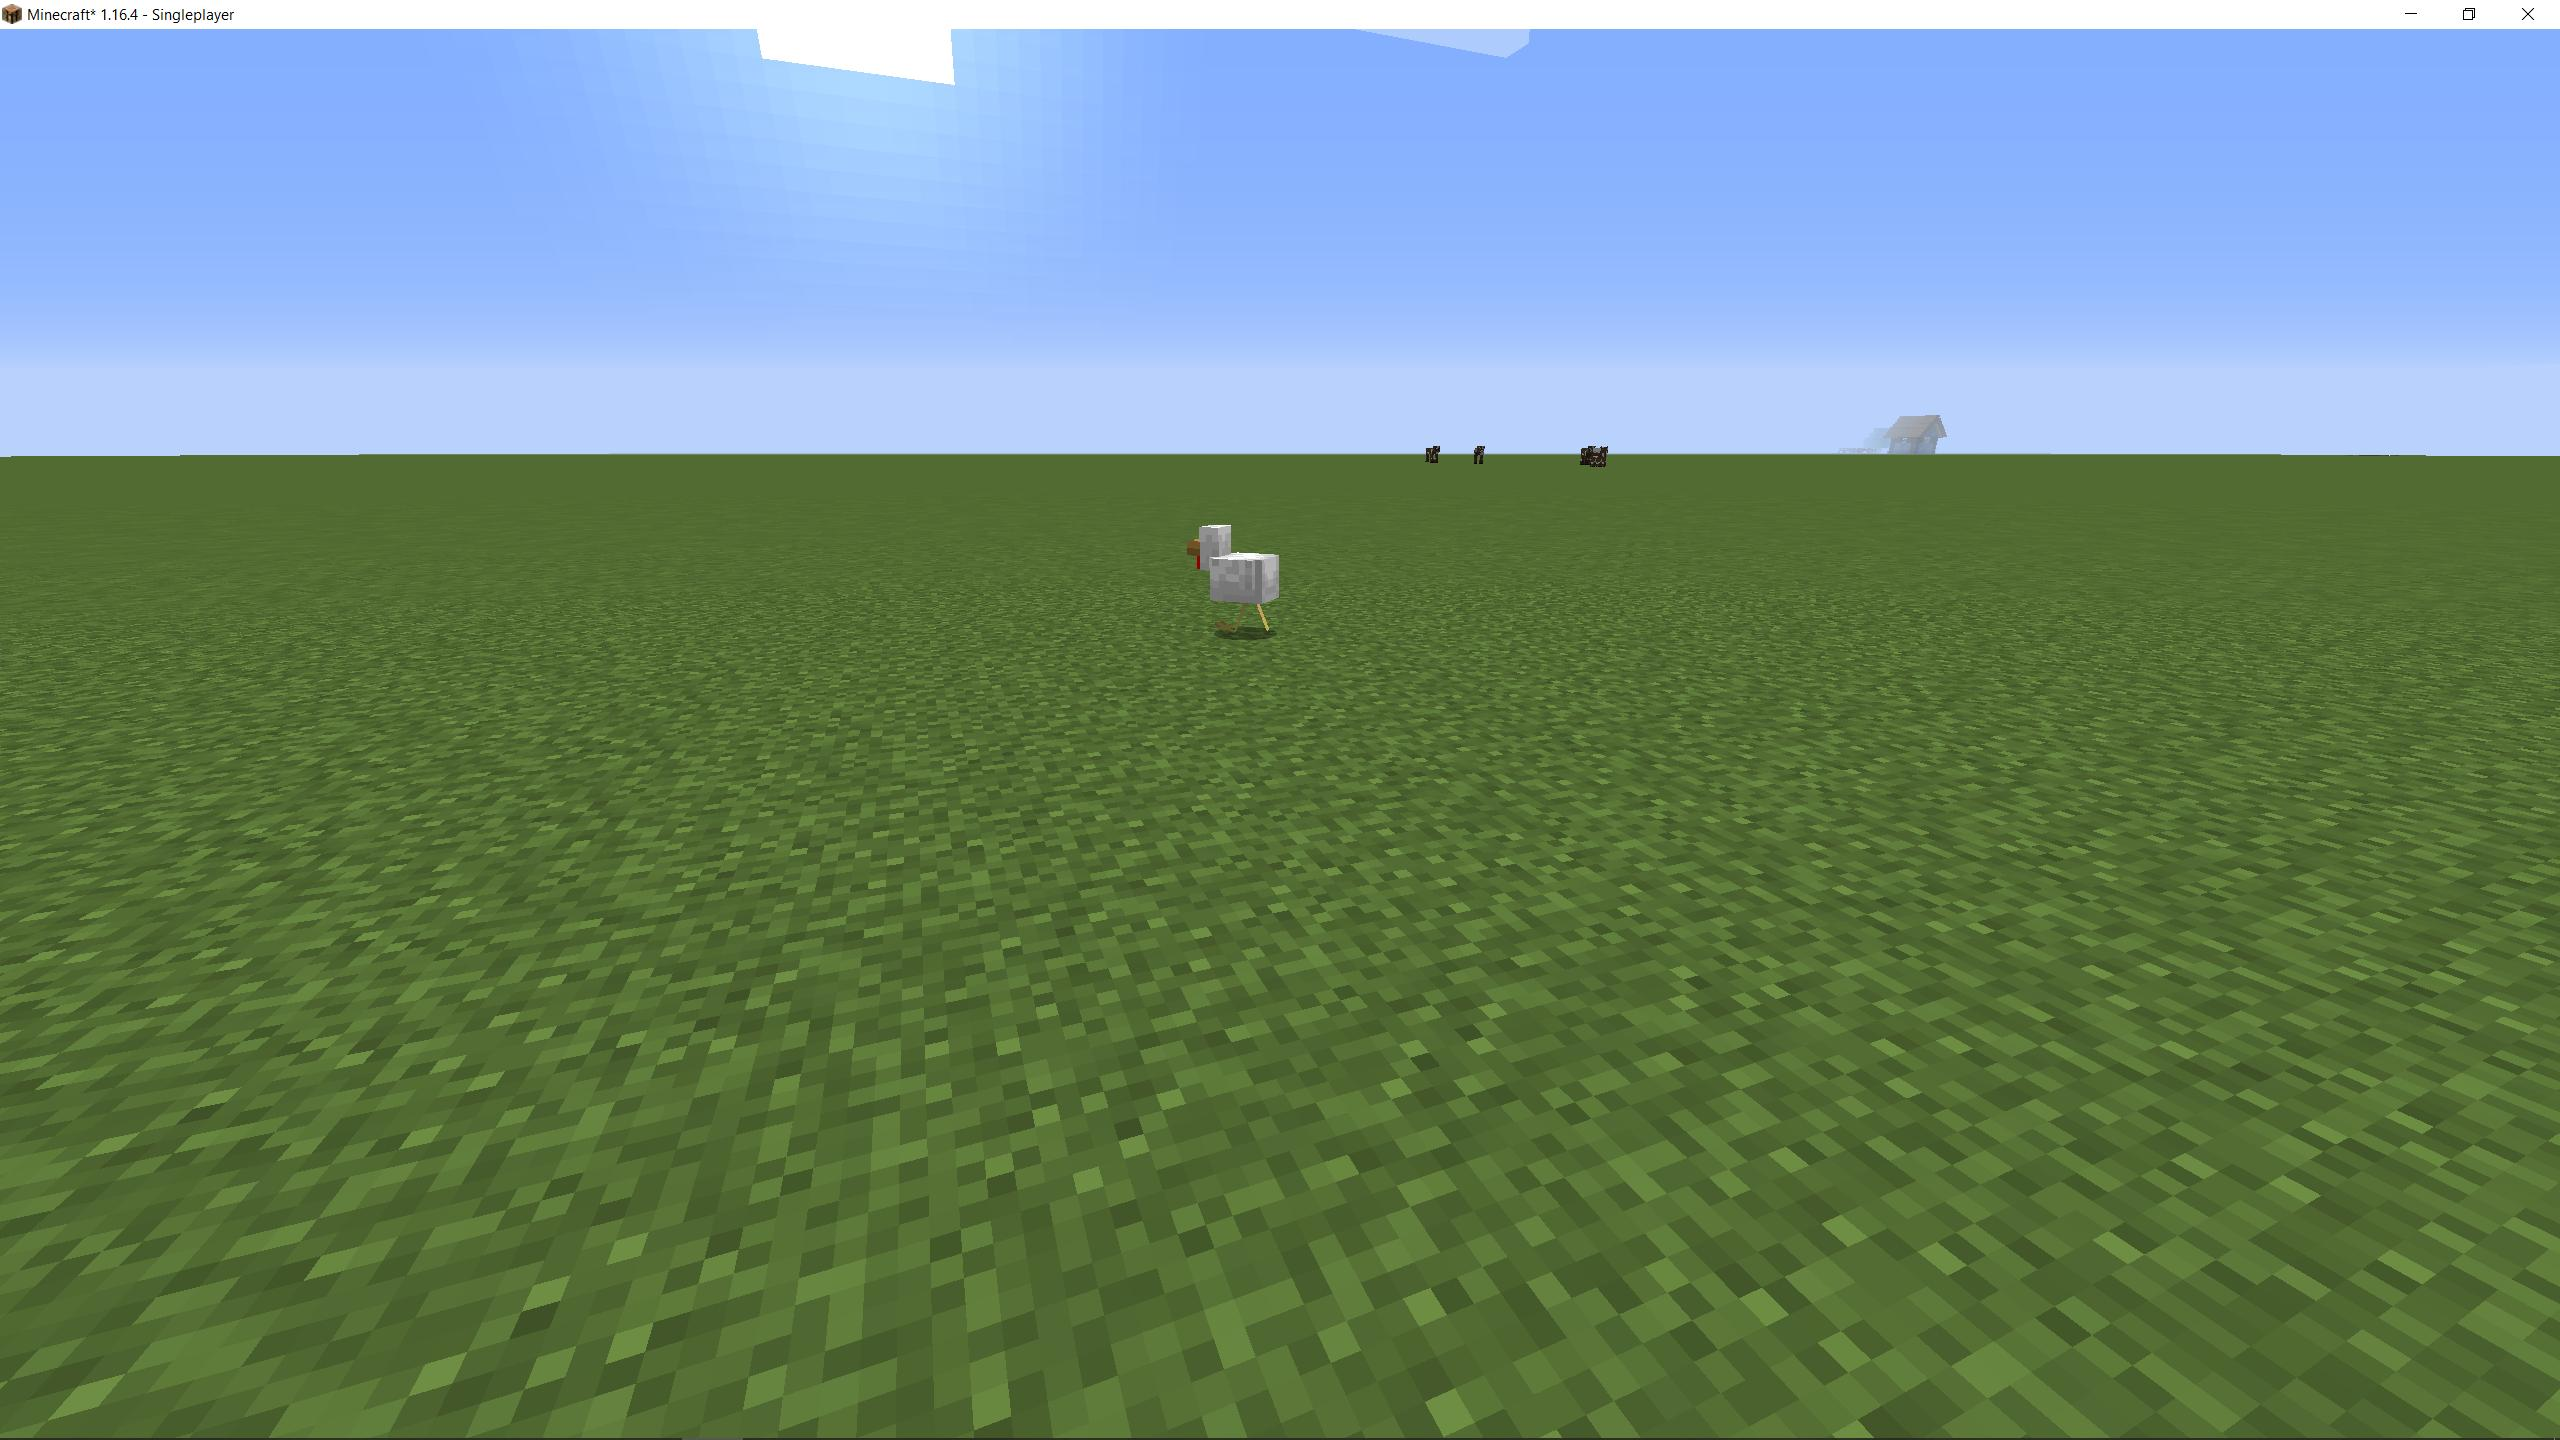chicken: (1182, 513, 1285, 645)
